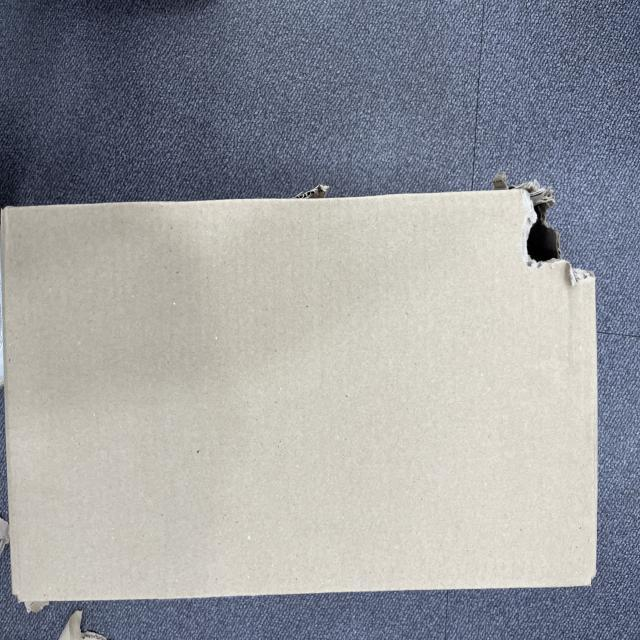hole: (505, 193, 573, 285)
